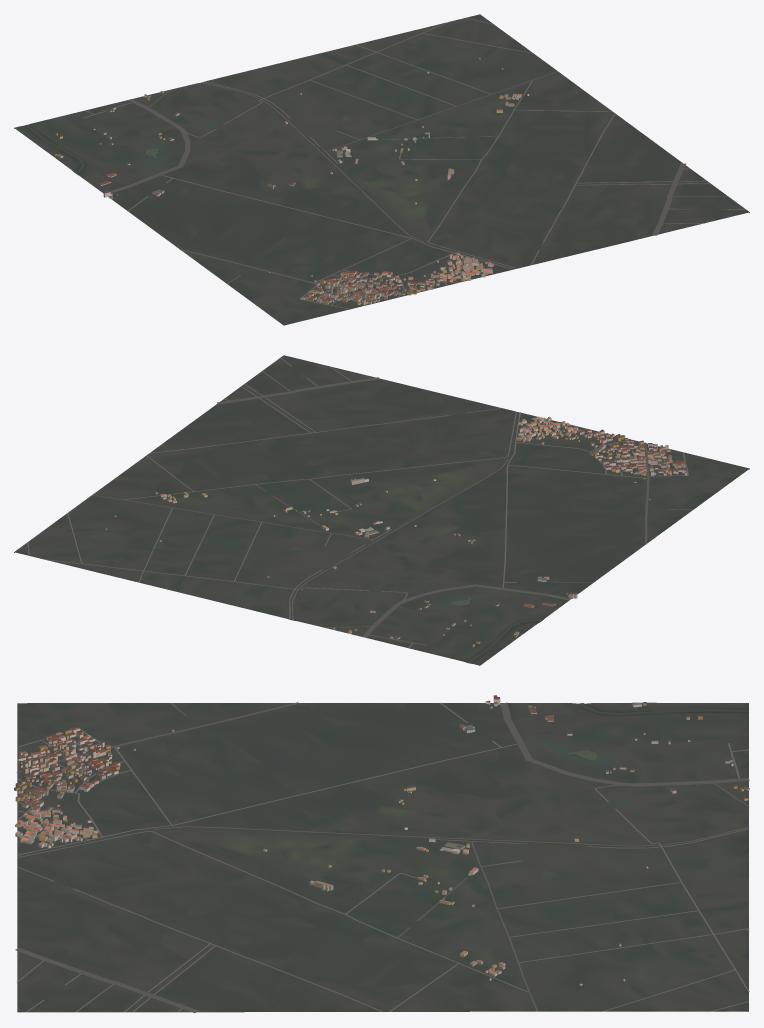
3 renders of one model, top to bottom at view 1: azimuth 30°, elevation 25°; view 2: azimuth 150°, elevation 25°; view 3: azimuth 270°, elevation 25°, orthographic. The views are drawn at different scales.
Parts seen in each view (by area): view 1: ground, roads, buildings, water; view 2: ground, roads, buildings, water; view 3: ground, roads, buildings, water.
Part boxes in pixels (x1,y1,x2,y2): ground: (14, 14, 749, 325); roads: (82, 18, 746, 309); buildings: (53, 57, 529, 305); water: (25, 82, 423, 241); ground: (14, 355, 749, 665); roads: (27, 357, 692, 648); buildings: (105, 416, 687, 647); water: (292, 459, 541, 663); ground: (17, 702, 748, 1012); roads: (15, 702, 749, 1013); buildings: (14, 695, 749, 985); water: (154, 703, 748, 846).
Bounding box in the file's own units: 1414 × 17.81 × 1410.
